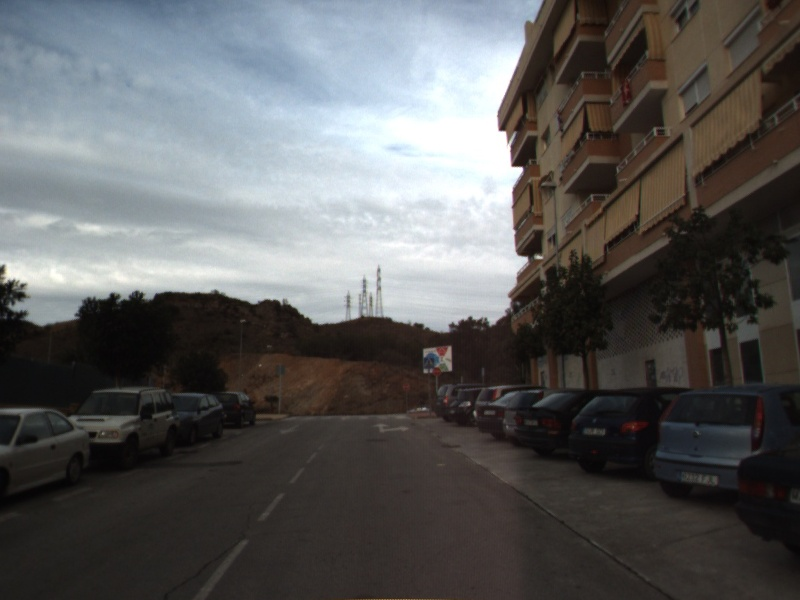STRAIGHT_RIGHT: (369, 420, 412, 435)
